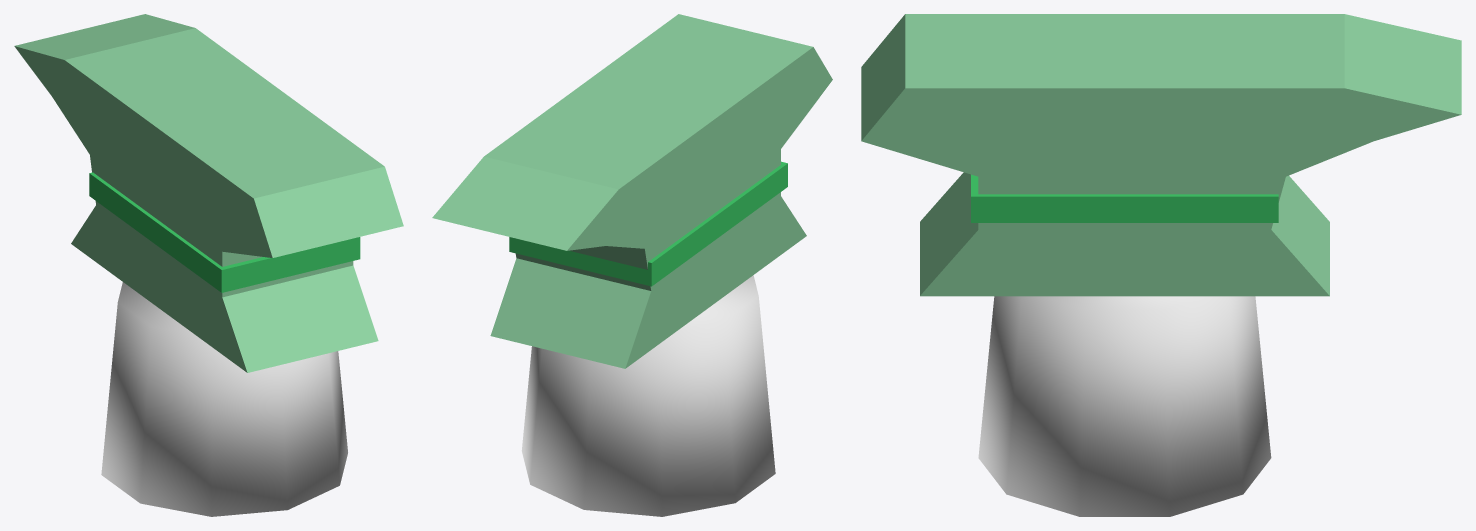
File: verdite_anvil_v0.glb
The picture shows the model from 3 angles, left to right: view 1: azimuth 30°, elevation 25°; view 2: azimuth 150°, elevation 25°; view 3: azimuth 270°, elevation 25°; orthographic projection. The views are drawn at different scales.
Parts seen in each view (by area): view 1: verdite_anvil_v0; view 2: verdite_anvil_v0; view 3: verdite_anvil_v0.
Boxes of the visible parts, left/top/right/bottom form: verdite_anvil_v0: left=14, top=14, right=403, bottom=516; verdite_anvil_v0: left=432, top=14, right=832, bottom=516; verdite_anvil_v0: left=861, top=14, right=1461, bottom=516.
Size of the model in its own units: 0.5706 by 0.92 by 1.23.
